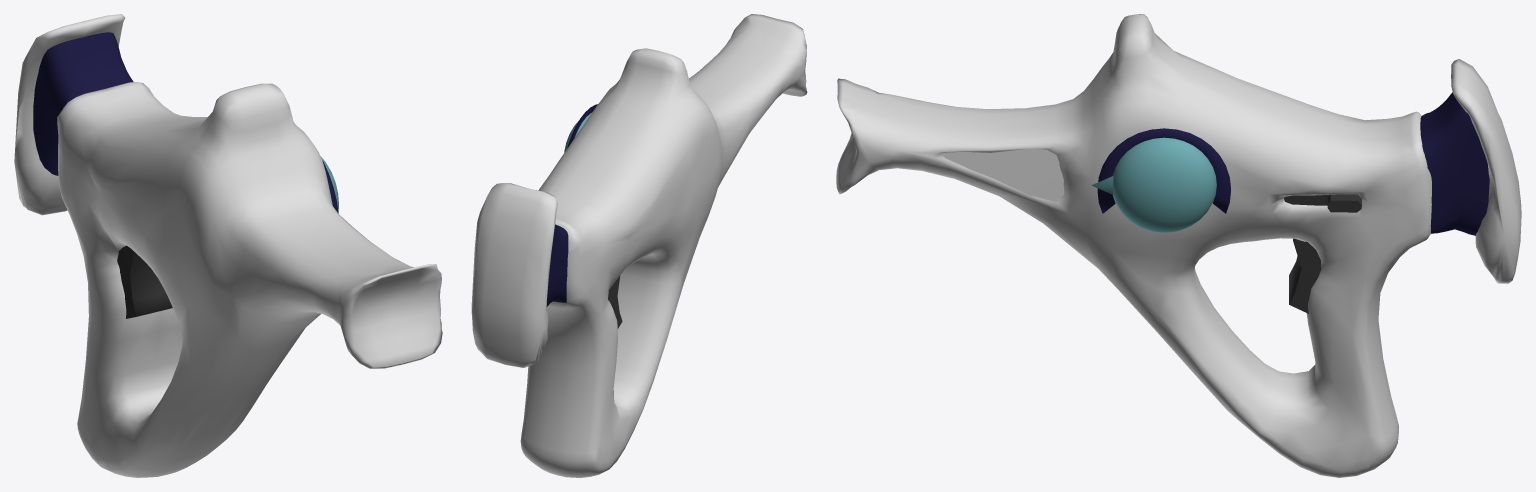
The model's file is gun.fbx.
3 views of the same model, side by side, from view 1: azimuth 30°, elevation 25°; view 2: azimuth 150°, elevation 25°; view 3: azimuth 270°, elevation 25° (orthographic). The views are drawn at different scales.
Parts seen in each view (by area): view 1: gun.001; view 2: gun.001; view 3: gun.001.
Part boxes in pixels (box(x1,y1,x2,y2)): gun.001: box(14, 14, 442, 477); gun.001: box(471, 14, 807, 477); gun.001: box(836, 14, 1521, 477).
Size of the model in its own units: 11.74 by 32.6 by 45.39.
